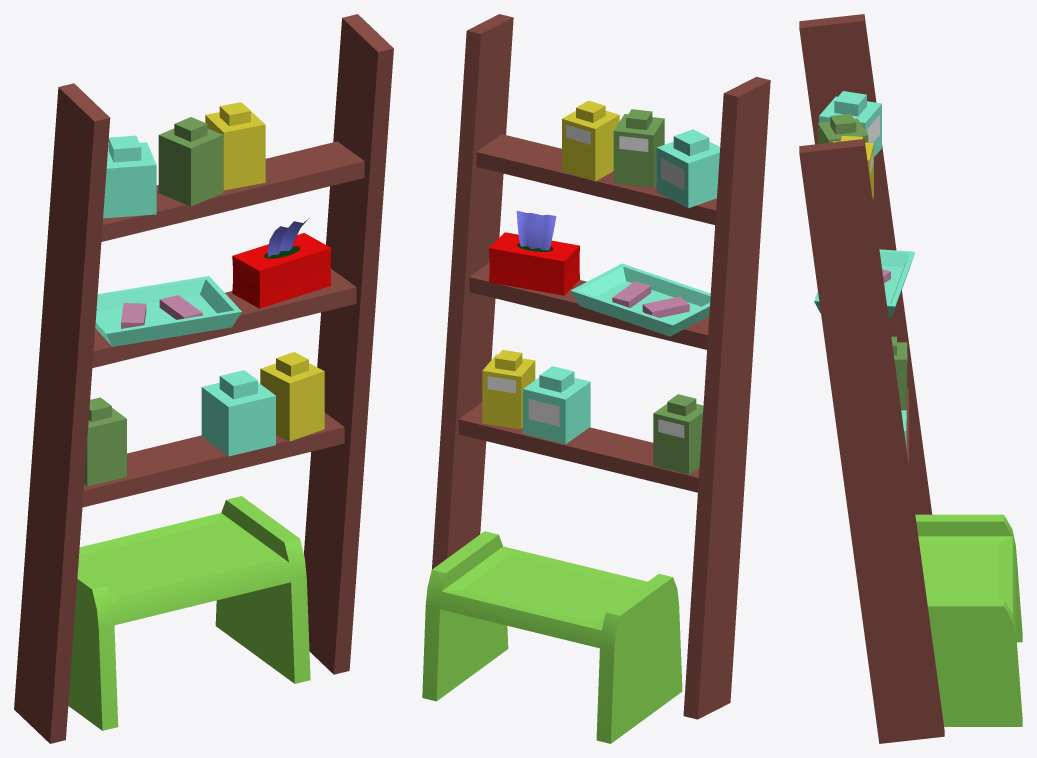
Rendered from Shelf.fbx.
3 renders of one model, left to right at view 1: azimuth 30°, elevation 25°; view 2: azimuth 150°, elevation 25°; view 3: azimuth 270°, elevation 25°, orthographic. The views are drawn at different scales.
Parts seen in each view (by area): view 1: Bottle6.022, Bottle6.025, Bottle6.023, Bottle6.009, Bottle6.014, Bottle6.007, Bottle6.003, Bottle6.024, Bottle6.021, Bottle6.012, Bottle6.004, Bottle6.001 (+3 smaller); view 2: Bottle6.022, Bottle6.025, Bottle6.021, Bottle6.009, Bottle6.007, Bottle6.014, Bottle6.004, Bottle6.001, Bottle6.016, Bottle6.003, Bottle6.012, Bottle6.008 (+3 smaller); view 3: Bottle6.022, Bottle6.025, Bottle6.004, Bottle6.009, Bottle6.003, Bottle6.016, Bottle6.001.
Boxes of the visible parts, x1,y1,x2,y2 form: Bottle6.022: (14, 14, 393, 743); Bottle6.025: (68, 496, 310, 730); Bottle6.023: (50, 118, 110, 743); Bottle6.009: (95, 276, 241, 346); Bottle6.014: (201, 370, 275, 456); Bottle6.007: (232, 233, 331, 308); Bottle6.003: (158, 117, 223, 206); Bottle6.024: (82, 427, 344, 507); Bottle6.021: (83, 268, 355, 490); Bottle6.012: (260, 352, 324, 441); Bottle6.004: (103, 135, 156, 218); Bottle6.001: (205, 102, 265, 190); Bottle6.022: (432, 14, 770, 719); Bottle6.025: (422, 531, 682, 743); Bottle6.021: (458, 262, 709, 492); Bottle6.009: (570, 263, 710, 336); Bottle6.007: (489, 232, 579, 295); Bottle6.014: (523, 366, 590, 444); Bottle6.004: (656, 129, 720, 208); Bottle6.001: (562, 100, 619, 181); Bottle6.016: (653, 394, 703, 474); Bottle6.003: (613, 109, 664, 187); Bottle6.012: (482, 350, 535, 429); Bottle6.008: (516, 210, 556, 250); Bottle6.022: (799, 14, 944, 743); Bottle6.025: (915, 514, 1022, 726); Bottle6.004: (819, 91, 881, 156); Bottle6.009: (814, 249, 914, 317); Bottle6.003: (818, 113, 868, 143); Bottle6.016: (891, 336, 907, 410); Bottle6.001: (833, 136, 873, 199).
Bounding box in the file's own units: 475 × 1005 × 340.
